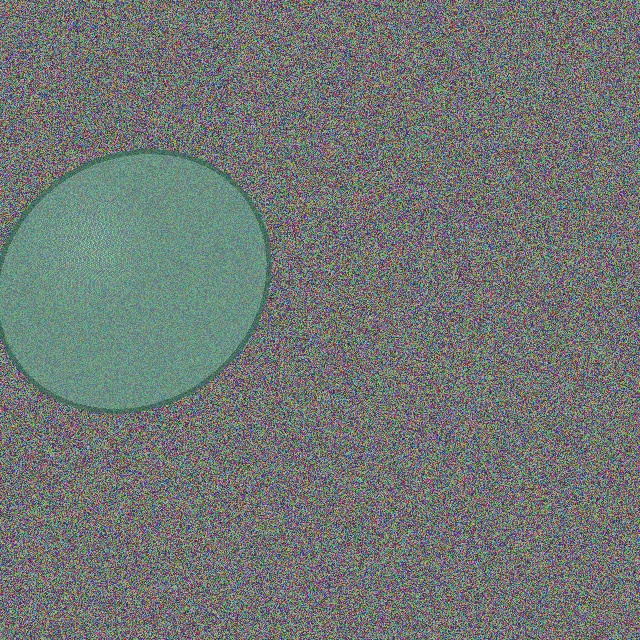lens: (0, 152, 269, 410)
